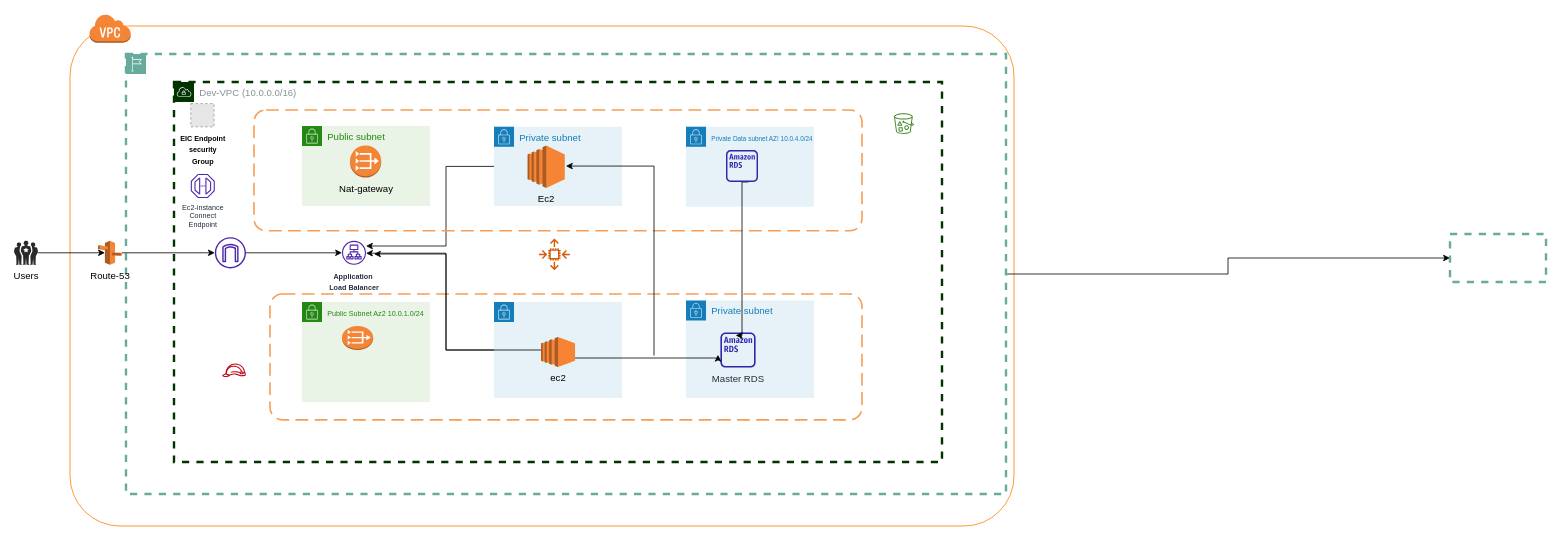
Some shapes in this 1561 by 540 pixel diagram are drawn without their labels. Grey dashed boxes stand in for pictures. The shapes that lost their labels are listed below. From the top down, each one's box as (x1, y1, x2, y2) in pixels, then its label:
(894, 113, 914, 134): S3-Bucket
(726, 150, 758, 182): Standby RDS
(214, 237, 246, 268): Internet gateway
(538, 238, 570, 270): Auto-Scaling
(124, 52, 1007, 495): Region
(341, 325, 373, 350): Nat-gatway
(493, 301, 622, 398): Private App subnet Az2 10.0.3.0/24
(222, 363, 246, 377): EC2-Endpoint IAM role
